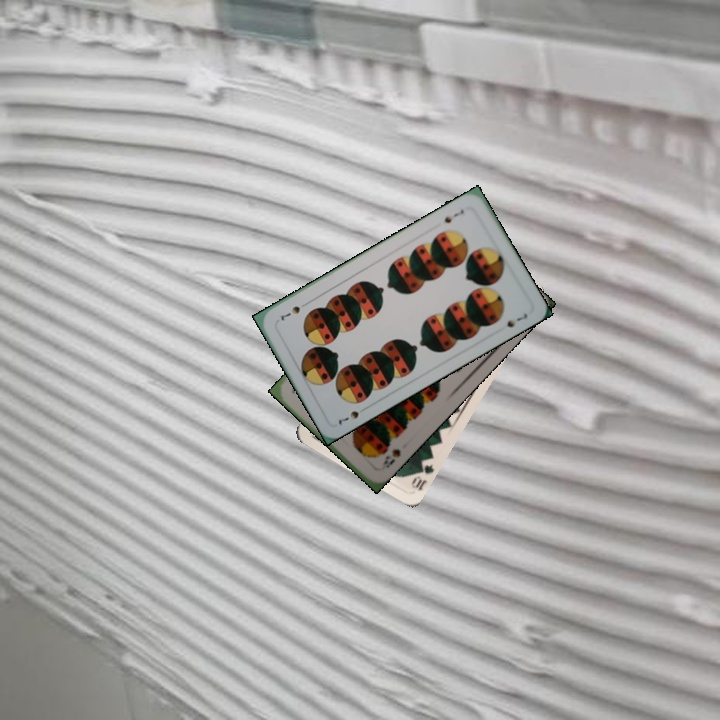G10: (407, 454, 436, 494)
S7: (334, 407, 362, 428), (440, 205, 466, 226)
S8: (376, 444, 403, 471)
